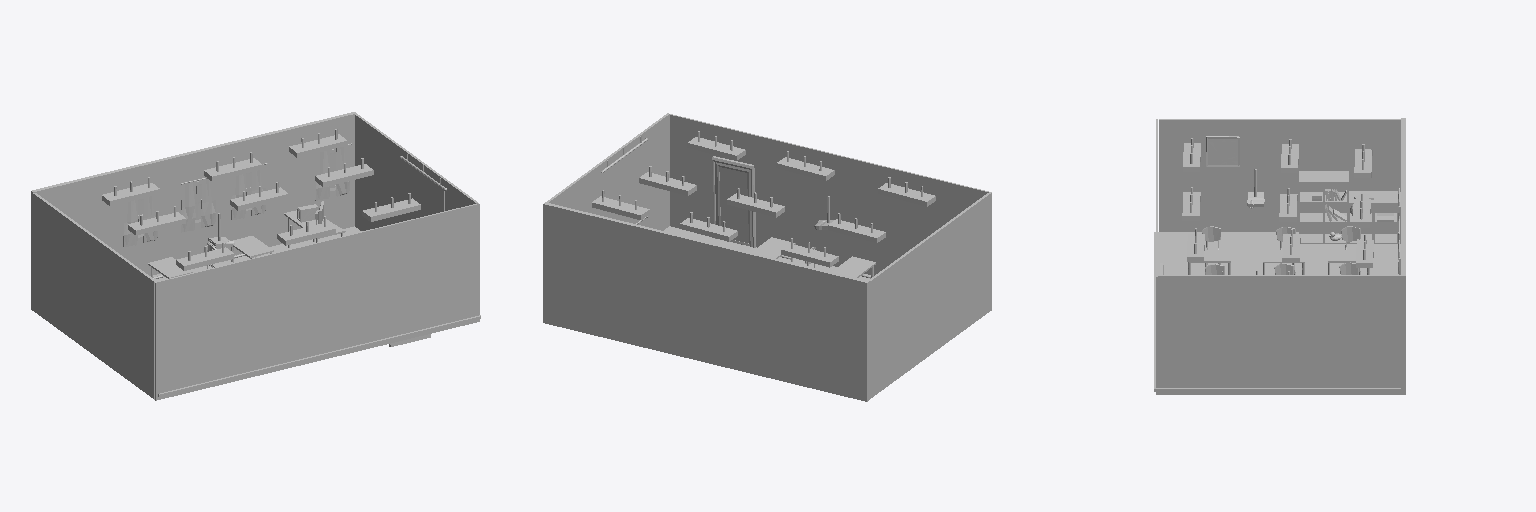
File: sala.obj
3 views of the same model, side by side, from view 1: azimuth 30°, elevation 25°; view 2: azimuth 150°, elevation 25°; view 3: azimuth 270°, elevation 25° (orthographic).
Visible parts, largest first — view 1: group[number redacted], group[number redacted], group[number redacted], group[number redacted], group[number redacted], group[number redacted], group[number redacted], group[number redacted], group[number redacted], group[number redacted], group[number redacted], group[number redacted] (+9 smaller); view 2: group[number redacted], group[number redacted], group[number redacted], group[number redacted], group[number redacted], group[number redacted], group[number redacted], group[number redacted], group[number redacted], group[number redacted], group[number redacted], group[number redacted] (+5 smaller); view 3: group[number redacted], group[number redacted], group[number redacted], group[number redacted], group[number redacted], group[number redacted], group[number redacted], group[number redacted], group[number redacted], group[number redacted].
Boxes of the visible parts, x1=… form: group[number redacted]: x1=155, y1=203, x2=479, y2=400; group[number redacted]: x1=31, y1=112, x2=356, y2=310; group[number redacted]: x1=33, y1=193, x2=156, y2=399; group[number redacted]: x1=355, y1=114, x2=477, y2=230; group[number redacted]: x1=150, y1=226, x2=480, y2=397; group[number redacted]: x1=400, y1=154, x2=446, y2=221; group[number redacted]: x1=181, y1=178, x2=215, y2=232; group[number redacted]: x1=315, y1=143, x2=351, y2=200; group[number redacted]: x1=123, y1=195, x2=157, y2=247; group[number redacted]: x1=231, y1=163, x2=267, y2=220; group[number redacted]: x1=277, y1=216, x2=335, y2=245; group[number redacted]: x1=204, y1=152, x2=262, y2=181; group[number redacted]: x1=543, y1=202, x2=869, y2=401; group[number redacted]: x1=668, y1=113, x2=991, y2=310; group[number redacted]: x1=868, y1=193, x2=990, y2=399; group[number redacted]: x1=547, y1=113, x2=669, y2=230; group[number redacted]: x1=712, y1=156, x2=755, y2=247; group[number redacted]: x1=601, y1=136, x2=647, y2=224; group[number redacted]: x1=727, y1=188, x2=784, y2=217; group[number redacted]: x1=639, y1=166, x2=696, y2=195; group[number redacted]: x1=680, y1=212, x2=737, y2=241; group[number redacted]: x1=878, y1=177, x2=935, y2=206; group[number redacted]: x1=828, y1=213, x2=885, y2=242; group[number redacted]: x1=687, y1=131, x2=745, y2=160; group[number redacted]: x1=1158, y1=275, x2=1400, y2=394; group[number redacted]: x1=1159, y1=119, x2=1400, y2=231; group[number redacted]: x1=1154, y1=232, x2=1403, y2=391; group[number redacted]: x1=1299, y1=171, x2=1397, y2=243; group[number redacted]: x1=1401, y1=118, x2=1405, y2=394; group[number redacted]: x1=1206, y1=136, x2=1239, y2=166; group[number redacted]: x1=1188, y1=226, x2=1230, y2=274; group[number redacted]: x1=1328, y1=226, x2=1369, y2=274; group[number redacted]: x1=1263, y1=227, x2=1304, y2=274; group[number redacted]: x1=1156, y1=119, x2=1157, y2=394.
Size of the model in its own units: 9.56 by 3.75 by 6.43.